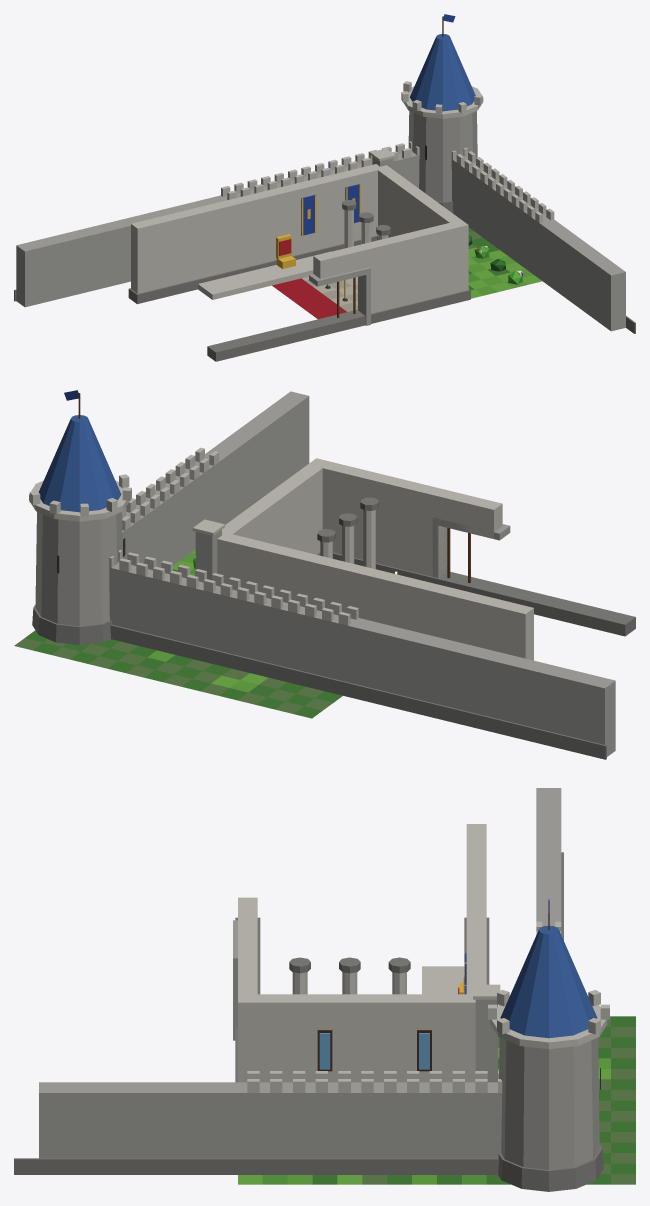
File: chunk_6_3.glb
3 views of the same model, one above another, from view 1: azimuth 30°, elevation 25°; view 2: azimuth 150°, elevation 25°; view 3: azimuth 270°, elevation 25° (orthographic). The views are drawn at different scales.
Visible parts, largest first — view 1: chunk_6_3; view 2: chunk_6_3; view 3: chunk_6_3.
Part boxes in pixels (<box>): chunk_6_3: <box>14,14,635,361</box>; chunk_6_3: <box>14,390,635,759</box>; chunk_6_3: <box>14,788,635,1191</box>.
Size of the model in its own units: 30.95 by 12.11 by 25.
